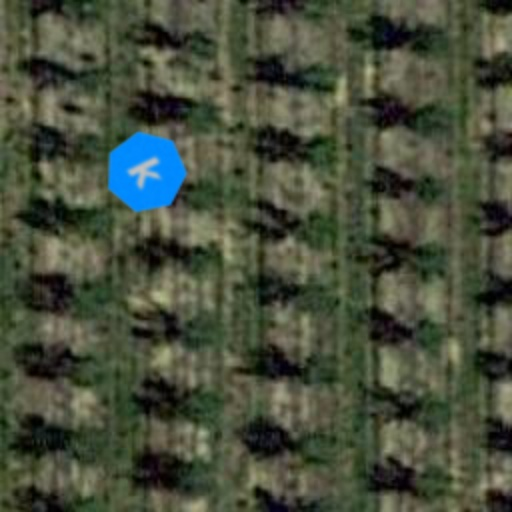heptagon: (88, 114, 204, 230)
